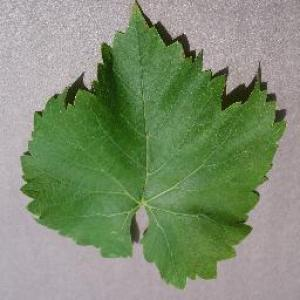Folha: (18, 0, 287, 289)
